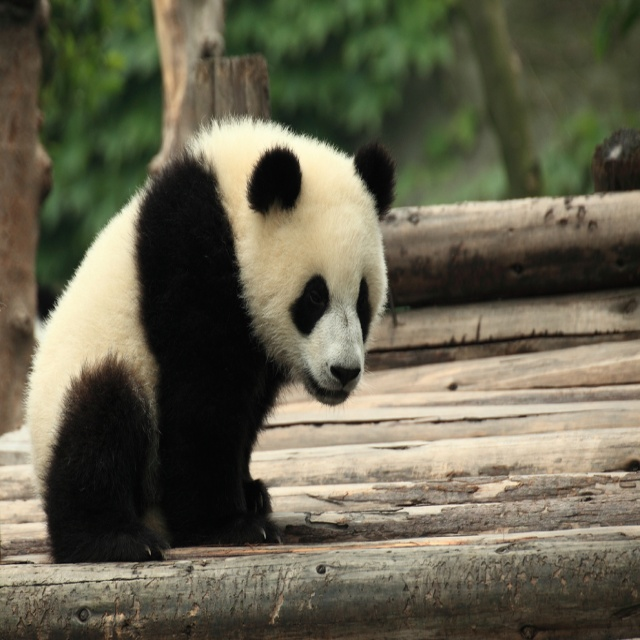Panda: (26, 113, 398, 558)
